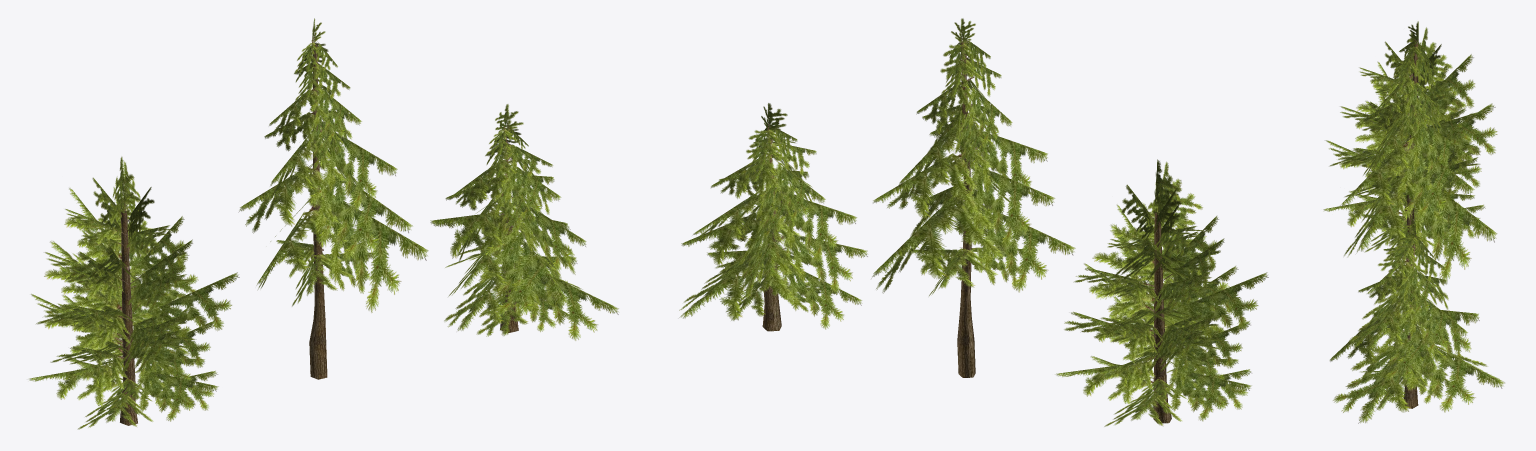
File: pine_trees_pack__ps1_low_poly.glb
3 views of the same model, side by side, from view 1: azimuth 30°, elevation 25°; view 2: azimuth 150°, elevation 25°; view 3: azimuth 270°, elevation 25° (orthographic). The views are drawn at different scales.
Visible parts, largest first — view 1: Tree_Pine_T1_Tree_Pine_0; view 2: Tree_Pine_T1_Tree_Pine_0; view 3: Tree_Pine_T1_Tree_Pine_0.
Boxes of the visible parts, x1=… form: Tree_Pine_T1_Tree_Pine_0: x1=29, y1=18, x2=618, y2=429; Tree_Pine_T1_Tree_Pine_0: x1=679, y1=18, x2=1268, y2=426; Tree_Pine_T1_Tree_Pine_0: x1=1323, y1=21, x2=1504, y2=423.
Size of the model in its own units: 30.74 by 17.92 by 11.17.
Materials: 1 (1 with a texture image).
